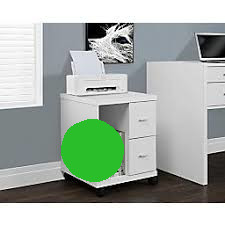focus: (60, 114, 125, 183)
